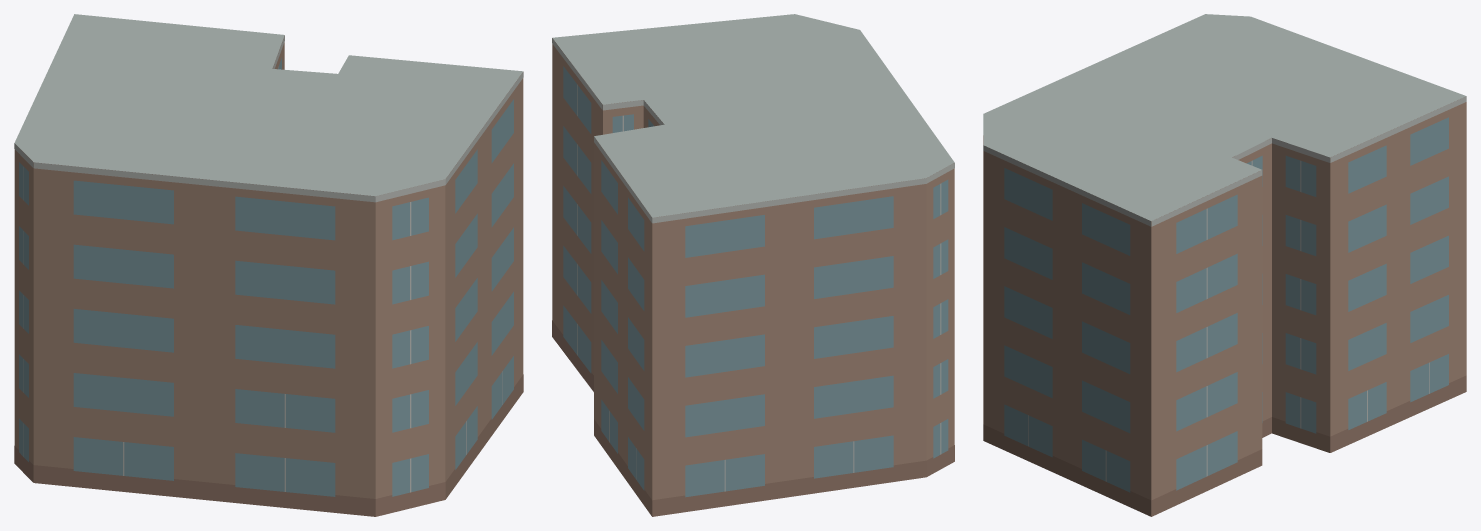
File: survey-upis-32953363.glb
The picture shows the model from 3 angles, left to right: view 1: azimuth 30°, elevation 25°; view 2: azimuth 150°, elevation 25°; view 3: azimuth 270°, elevation 25°; orthographic projection. The views are drawn at different scales.
Visible parts, largest first — view 1: survey-upis-32953363.tmp; view 2: survey-upis-32953363.tmp; view 3: survey-upis-32953363.tmp.
Part boxes in pixels (x1=…): survey-upis-32953363.tmp: x1=14, y1=14, x2=523, y2=516; survey-upis-32953363.tmp: x1=552, y1=14, x2=954, y2=516; survey-upis-32953363.tmp: x1=983, y1=14, x2=1466, y2=516.
Bounding box in the file's own units: 19.25 × 12.8 × 18.97.
